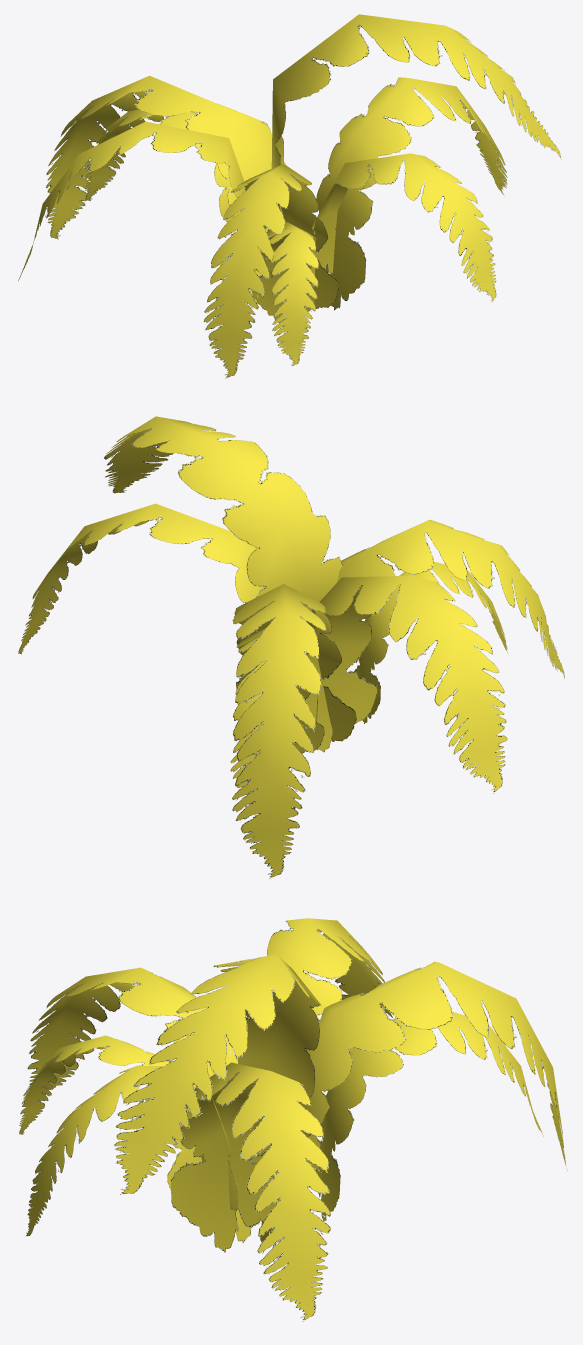
The model's file is fern4.obj.
The picture shows the model from 3 angles, top to bottom: view 1: azimuth 30°, elevation 25°; view 2: azimuth 150°, elevation 25°; view 3: azimuth 270°, elevation 25°; orthographic projection. The views are drawn at different scales.
Parts seen in each view (by area): view 1: bush_fern_joined.001_Plane.000; view 2: bush_fern_joined.001_Plane.000; view 3: bush_fern_joined.001_Plane.000.
Part boxes in pixels (left/top/right/bottom): bush_fern_joined.001_Plane.000: left=18, top=14, right=561, bottom=378; bush_fern_joined.001_Plane.000: left=18, top=416, right=564, bottom=878; bush_fern_joined.001_Plane.000: left=19, top=918, right=567, bottom=1321.
Bounding box in the file's own units: 6.58 × 3.77 × 5.61.
1 material, 1 textured.
